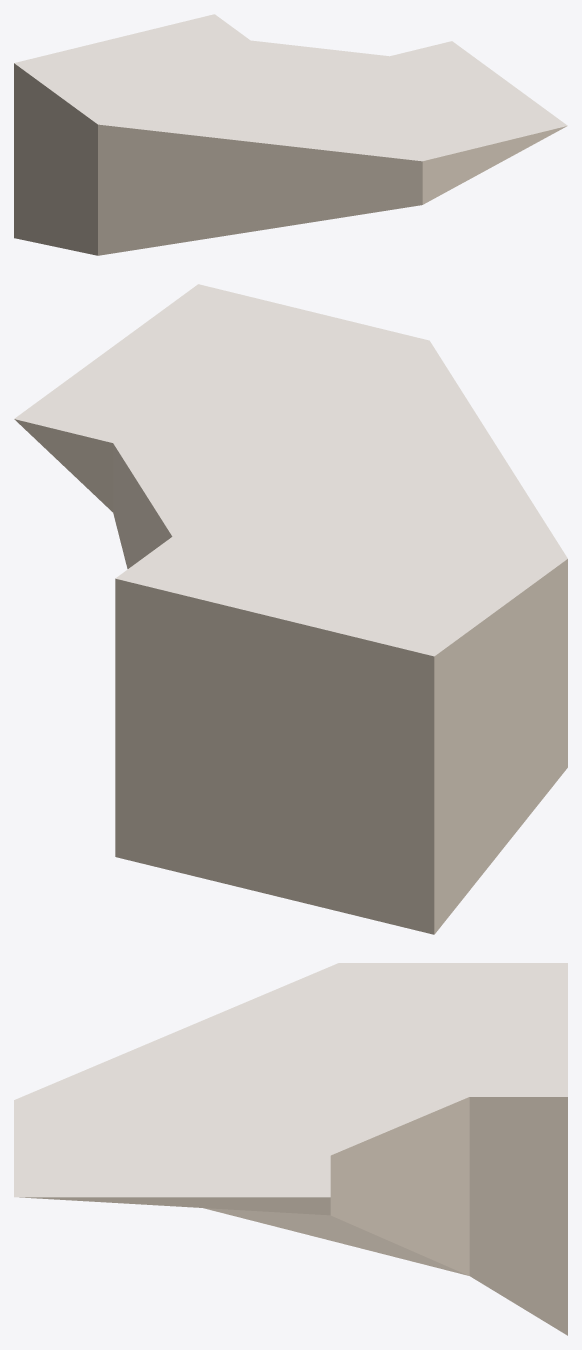
3 renders of one model, top to bottom at view 1: azimuth 30°, elevation 25°; view 2: azimuth 150°, elevation 25°; view 3: azimuth 270°, elevation 25°, orthographic. The views are drawn at different scales.
Visible parts, largest first — view 1: object1.008; view 2: object1.008; view 3: object1.008.
Part boxes in pixels (x1=…): object1.008: x1=14, y1=14, x2=567, y2=255; object1.008: x1=14, y1=284, x2=567, y2=934; object1.008: x1=14, y1=963, x2=567, y2=1335.
Size of the model in its own units: 2.1 by 1 by 2.1.
